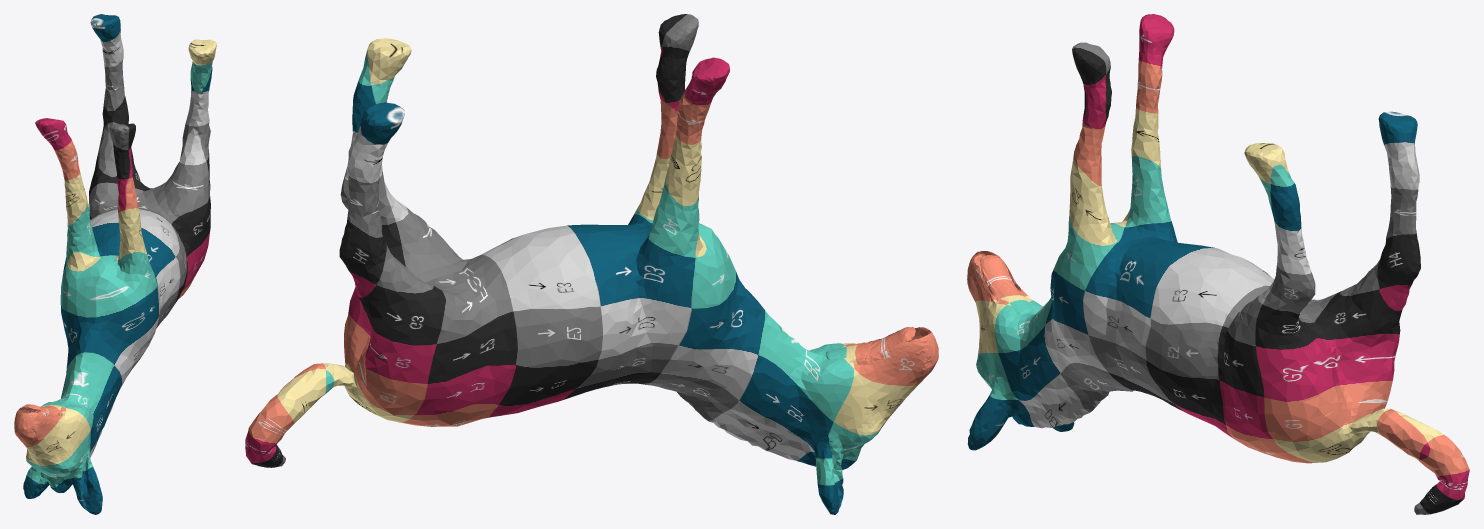
The model's file is horse_04-horse_10.obj.
The picture shows the model from 3 angles, left to right: view 1: azimuth 30°, elevation 25°; view 2: azimuth 150°, elevation 25°; view 3: azimuth 270°, elevation 25°; orthographic projection. The views are drawn at different scales.
Visible parts, largest first — view 1: horse_04-horse_10_export; view 2: horse_04-horse_10_export; view 3: horse_04-horse_10_export.
Part boxes in pixels (x1,y1,x2,y2): horse_04-horse_10_export: [14, 14, 216, 514]; horse_04-horse_10_export: [245, 14, 938, 514]; horse_04-horse_10_export: [967, 14, 1469, 514].
Bounding box in the file's own units: 0.7878 × 0.7952 × 0.8038.
